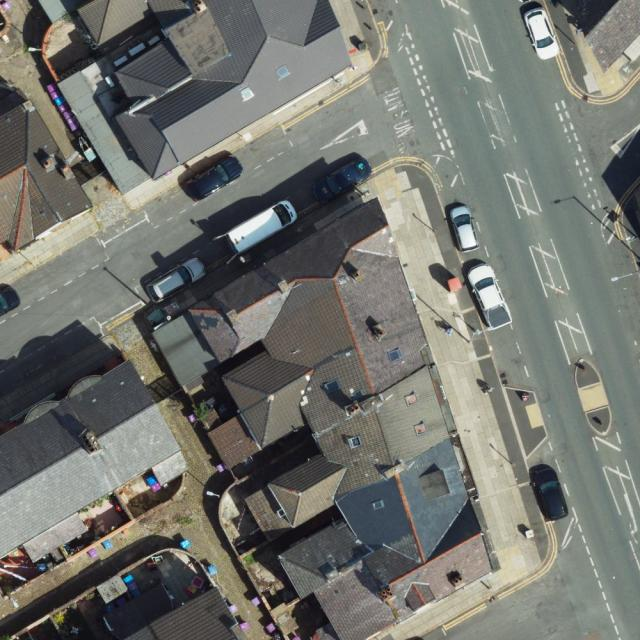roof: (152, 198, 493, 640), (58, 0, 351, 197), (0, 361, 193, 563), (0, 99, 93, 253), (116, 588, 249, 640)
skylight: (388, 347, 403, 364), (239, 87, 255, 102), (274, 65, 290, 80), (324, 380, 341, 394), (403, 392, 418, 407), (415, 421, 427, 436), (348, 437, 363, 449), (372, 500, 386, 511), (353, 390, 364, 402)
